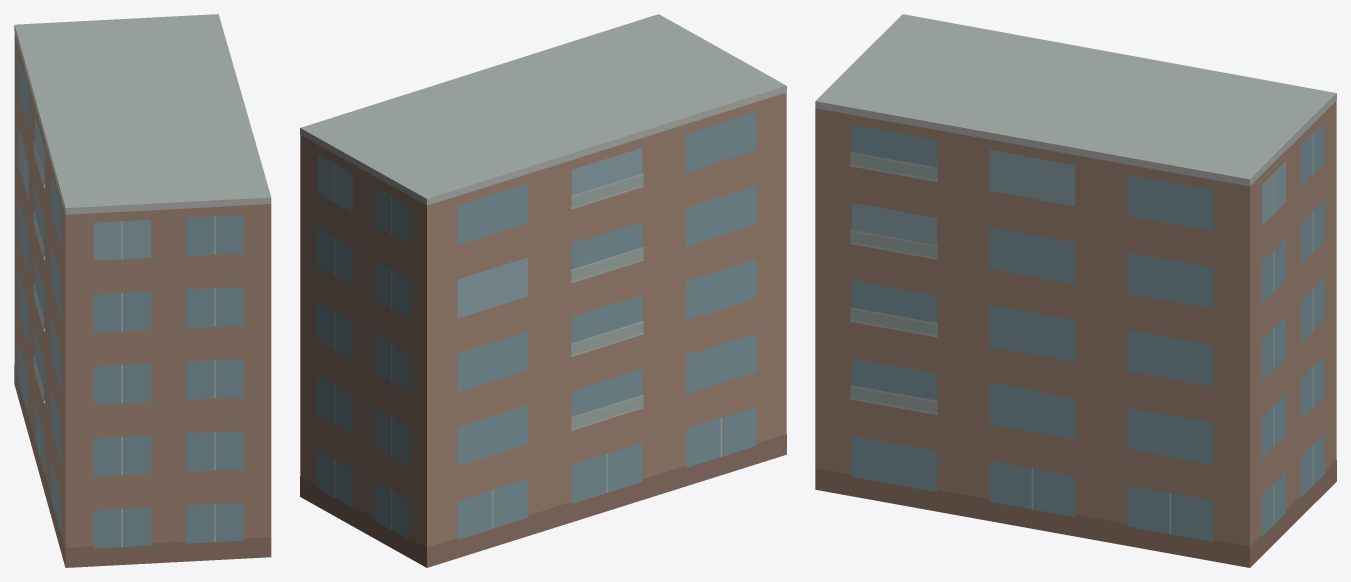
Rendered from survey-upis-32989608.glb.
3 views of the same model, side by side, from view 1: azimuth 30°, elevation 25°; view 2: azimuth 150°, elevation 25°; view 3: azimuth 270°, elevation 25° (orthographic). The views are drawn at different scales.
Parts seen in each view (by area): view 1: survey-upis-32989608.tmp; view 2: survey-upis-32989608.tmp; view 3: survey-upis-32989608.tmp.
Boxes of the visible parts, x1,y1,x2,y2 form: survey-upis-32989608.tmp: (14,14,271,567); survey-upis-32989608.tmp: (300,14,786,567); survey-upis-32989608.tmp: (815,14,1336,567).
Size of the model in its own units: 12.29 by 13.45 by 16.37.
